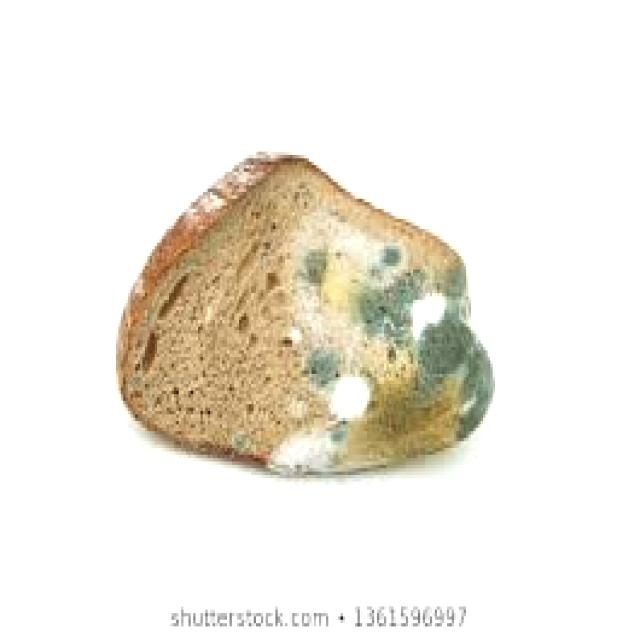organic: (108, 113, 542, 503)
